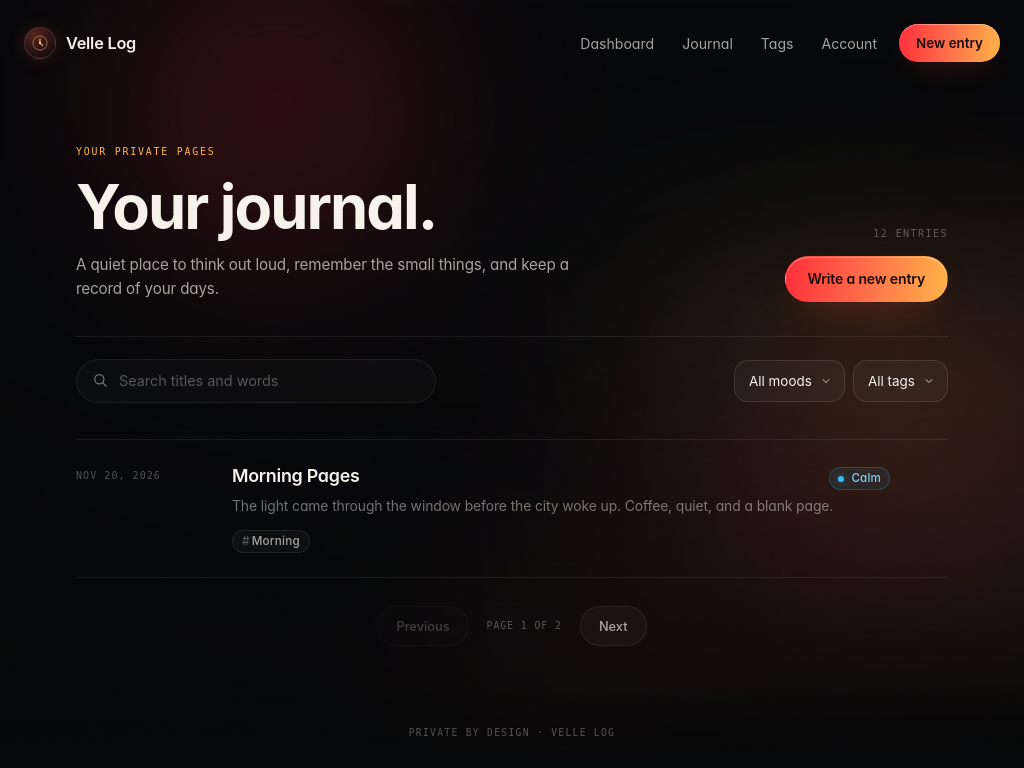
journal › moves between pages
expect the heading "Morning Pages" is shown: met, box 232,464 -> 360,487
Step 1. Click the button "Next" → (613, 626), box 580,606 -> 646,646
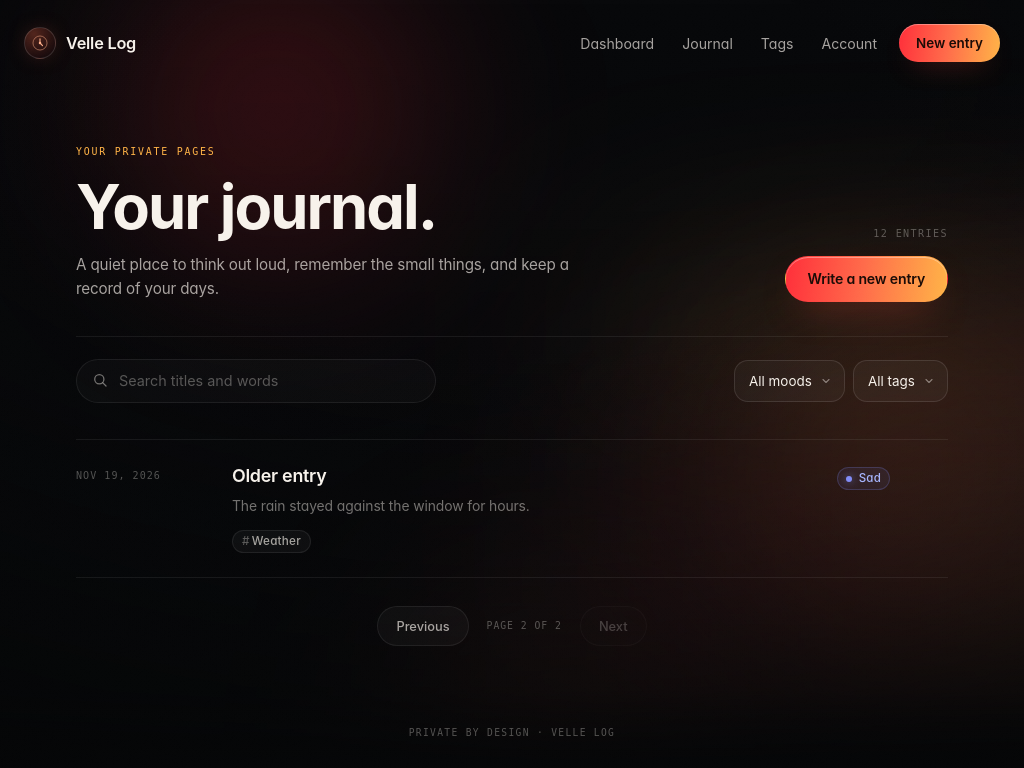
expect the heading "Older entry" is shown: met, box 232,464 -> 326,487
expect the text "Page 2 of 2" is shown: met, box 486,619 -> 562,634
expect the button "Next" is disabled: met, box 580,606 -> 646,646
